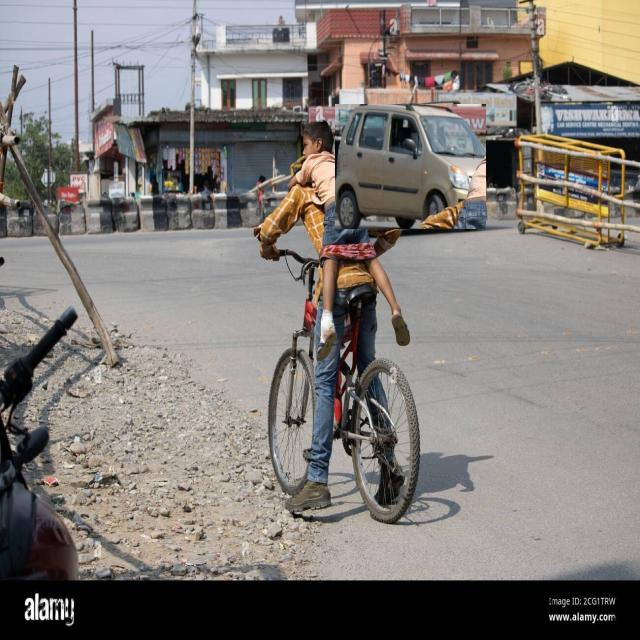bicycle: (255, 121, 419, 522)
car: (335, 104, 486, 229)
